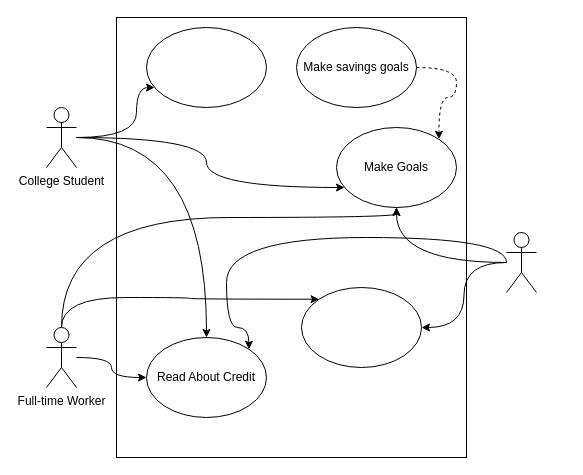
The diagram is 583 pixels wide and 475 high, and some of its shapes have lost their labels. Each missing label, with the centre of its shape:
Part-time Worker: (x=521, y=262)
See Debt: (x=206, y=67)
See Income: (x=361, y=327)
